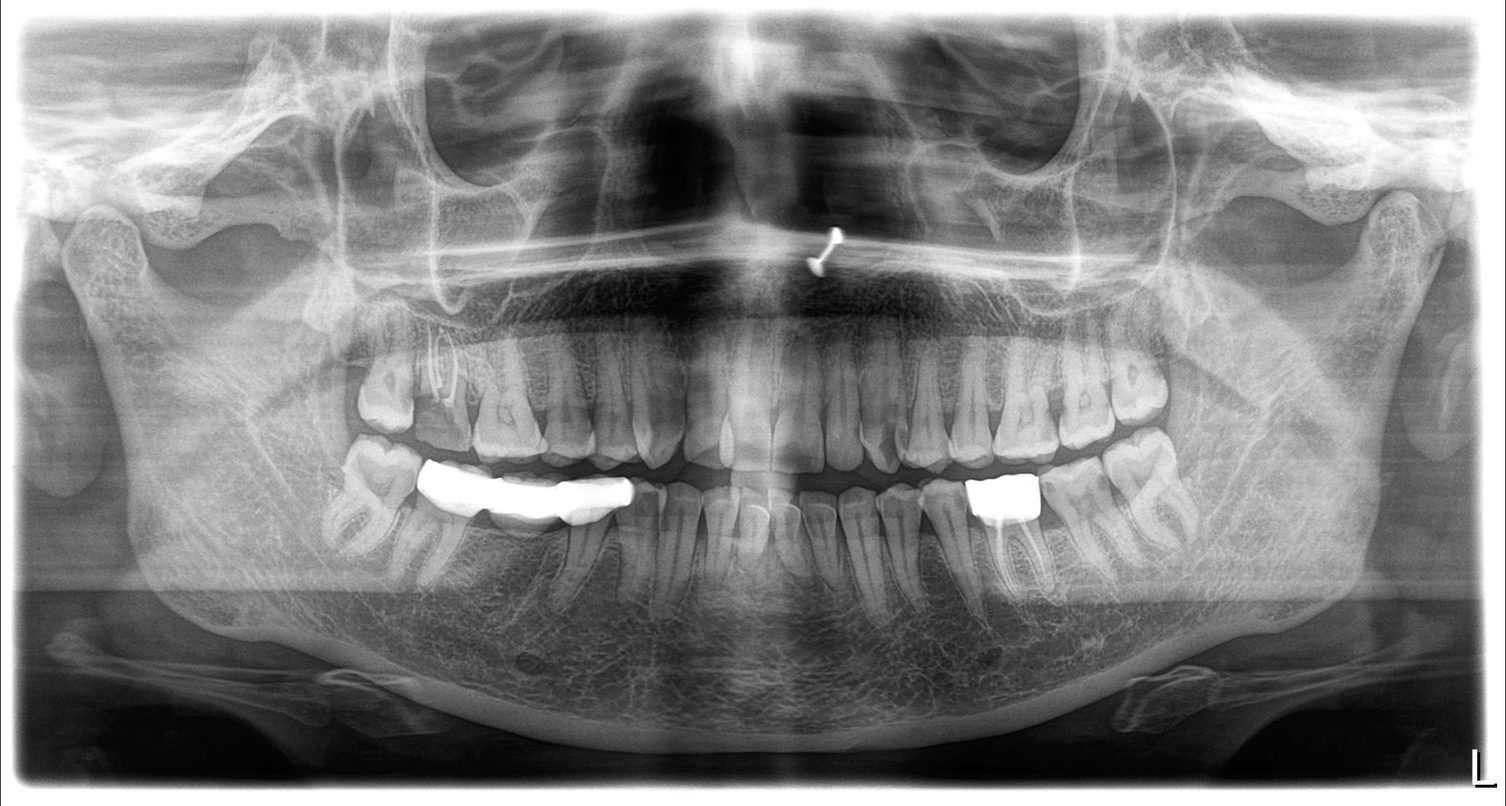Dental Caries: (884, 490, 939, 514)
Endodontically Treated Tooth: (974, 485, 1055, 611), (428, 320, 464, 452)
